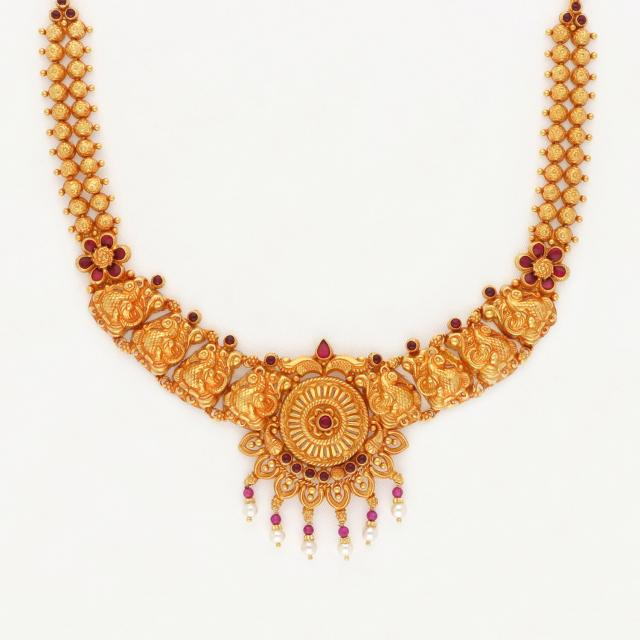missing gem: (332, 468, 342, 479)
